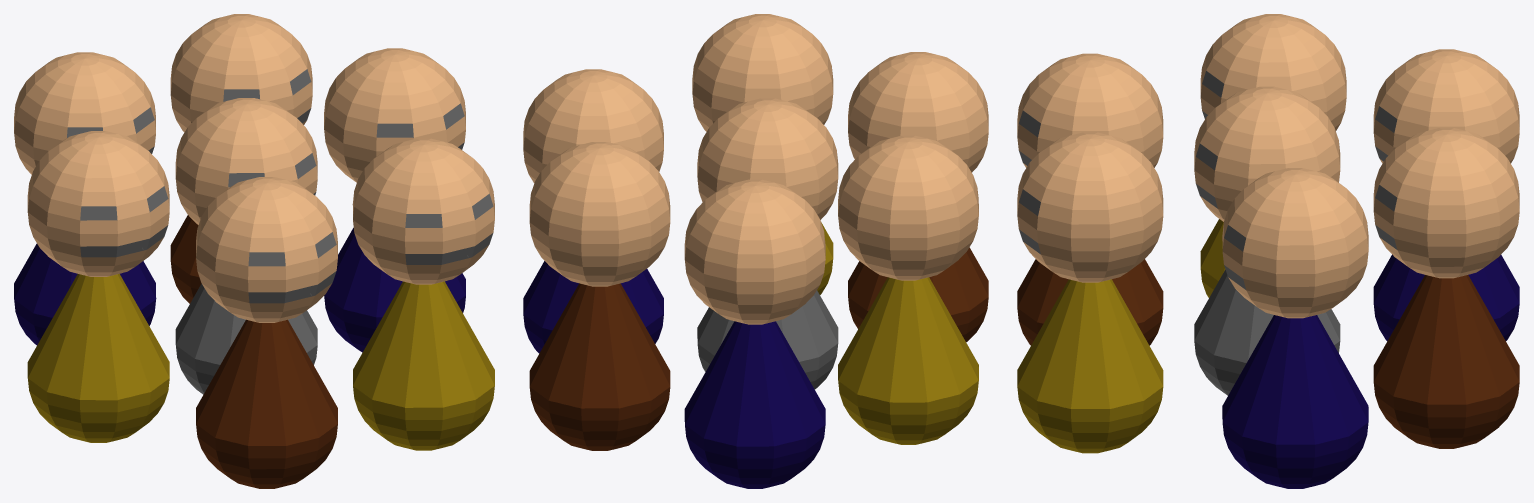
The model's file is crowed people smol.glb.
3 renders of one model, left to right at view 1: azimuth 30°, elevation 25°; view 2: azimuth 150°, elevation 25°; view 3: azimuth 270°, elevation 25°, orthographic. The views are drawn at different scales.
Parts seen in each view (by area): view 1: Цилиндр.004, Цилиндр.005, Цилиндр.006, Цилиндр.007, Цилиндр.003, Цилиндр.002, Цилиндр.001; view 2: Цилиндр.002, Цилиндр.001, Цилиндр.004, Цилиндр.005, Цилиндр.003, Цилиндр.007, Цилиндр.006; view 3: Цилиндр.006, Цилиндр.001, Цилиндр.007, Цилиндр.003, Цилиндр.005, Цилиндр.002, Цилиндр.004.
Part boxes in pixels (x1=…): Цилиндр.004: x1=27, y1=131, x2=169, y2=442; Цилиндр.005: x1=196, y1=177, x2=337, y2=488; Цилиндр.006: x1=352, y1=138, x2=494, y2=450; Цилиндр.007: x1=324, y1=48, x2=465, y2=352; Цилиндр.003: x1=175, y1=98, x2=317, y2=394; Цилиндр.002: x1=14, y1=52, x2=156, y2=345; Цилиндр.001: x1=170, y1=14, x2=312, y2=303; Цилиндр.002: x1=684, y1=179, x2=825, y2=488; Цилиндр.001: x1=529, y1=142, x2=670, y2=450; Цилиндр.004: x1=838, y1=135, x2=978, y2=444; Цилиндр.005: x1=848, y1=52, x2=988, y2=342; Цилиндр.003: x1=697, y1=98, x2=838, y2=389; Цилиндр.007: x1=523, y1=69, x2=663, y2=353; Цилиндр.006: x1=692, y1=14, x2=833, y2=294; Цилиндр.006: x1=1017, y1=132, x2=1163, y2=453; Цилиндр.001: x1=1373, y1=128, x2=1519, y2=448; Цилиндр.007: x1=1222, y1=168, x2=1368, y2=488; Цилиндр.003: x1=1194, y1=86, x2=1340, y2=395; Цилиндр.005: x1=1017, y1=53, x2=1163, y2=345; Цилиндр.002: x1=1373, y1=49, x2=1519, y2=341; Цилиндр.004: x1=1200, y1=14, x2=1346, y2=297.
Size of the model in its own units: 6.07 by 4.03 by 5.97.
